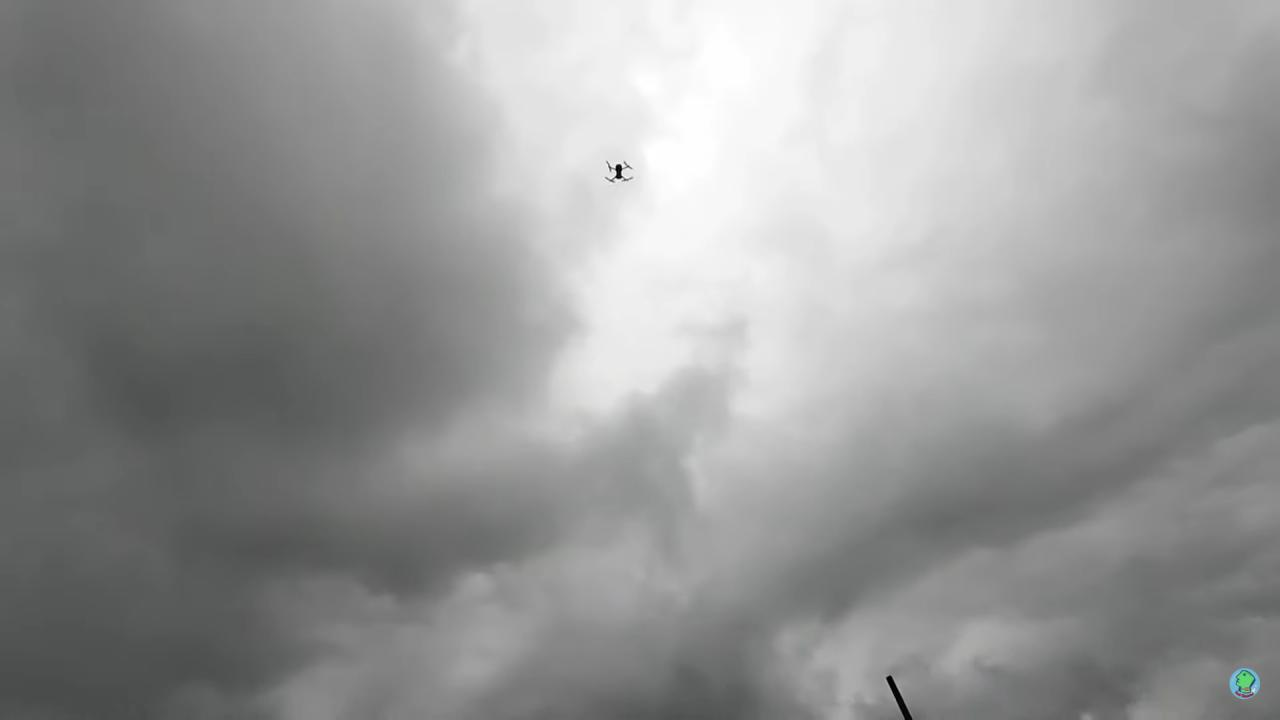Drone: (596, 153, 641, 193)
